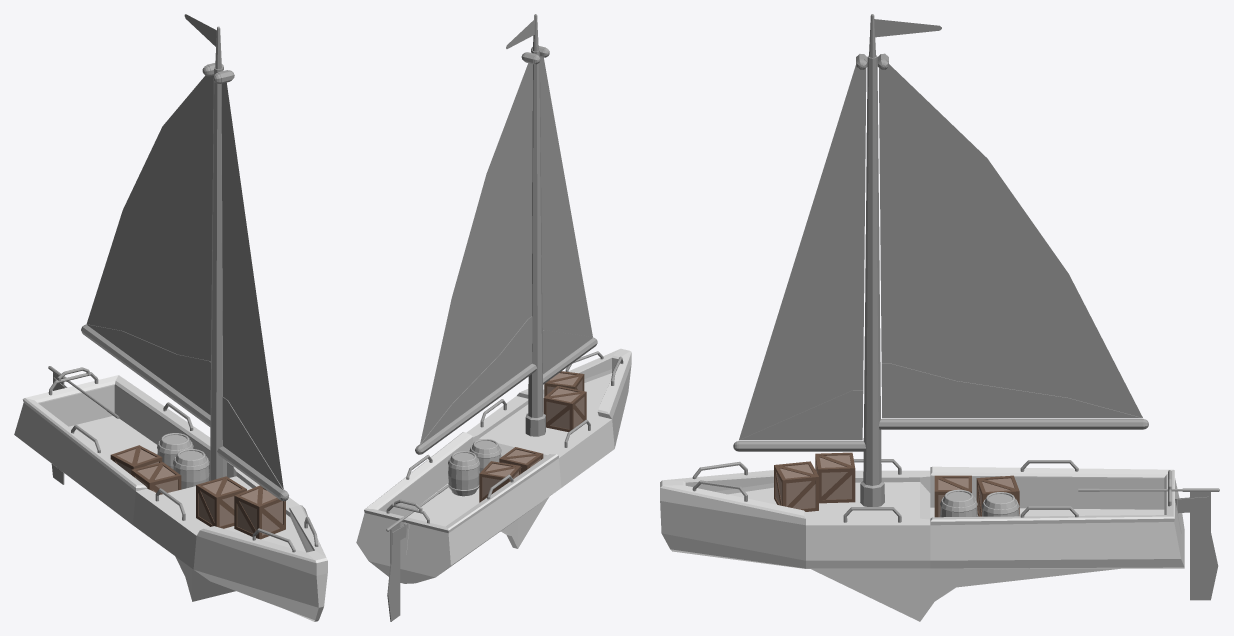
Rendered from Barco.fbx.
3 views of the same model, side by side, from view 1: azimuth 30°, elevation 25°; view 2: azimuth 150°, elevation 25°; view 3: azimuth 270°, elevation 25° (orthographic). The views are drawn at different scales.
Visible parts, largest first — view 1: Corpo Barco, Vela Grande, Vela Pequena, Mastro, Vela Grande Recolhida, Caixa.003, Vela Pequena Recolhida, Caixa.002, Mastro Vela Grande, Caixa, Barril, Mastro Vela Pequena (+2 smaller); view 2: Corpo Barco, Vela Grande, Vela Pequena, Mastro, Vela Grande Recolhida, Caixa.002, Mastro Vela Grande, Vela Pequena Recolhida, Leme, Barril.001, Caixa.001, Mastro Vela Pequena (+3 smaller); view 3: Corpo Barco, Vela Grande, Vela Pequena, Vela Grande Recolhida, Mastro, Vela Pequena Recolhida, Mastro Vela Grande, Leme, Caixa.003, Caixa.002, Mastro Vela Pequena, Caixa.001 (+2 smaller).
Boxes of the visible parts, left/top/right/bottom form: Corpo Barco: left=14, top=375, right=327, bottom=621; Vela Grande: left=86, top=75, right=213, bottom=361; Vela Pequena: left=221, top=81, right=283, bottom=489; Mastro: left=210, top=28, right=226, bottom=480; Vela Grande Recolhida: left=86, top=324, right=210, bottom=414; Caixa.003: left=234, top=485, right=285, bottom=539; Vela Pequena Recolhida: left=222, top=397, right=283, bottom=489; Caixa.002: left=196, top=476, right=246, bottom=528; Mastro Vela Grande: left=82, top=325, right=210, bottom=426; Caixa: left=131, top=462, right=181, bottom=492; Barril: left=173, top=449, right=209, bottom=489; Mastro Vela Pequena: left=217, top=446, right=286, bottom=499; Corpo Barco: left=356, top=348, right=631, bottom=583; Vela Grande: left=420, top=62, right=532, bottom=444; Vela Pequena: left=540, top=57, right=592, bottom=336; Mastro: left=525, top=15, right=545, bottom=436; Vela Grande Recolhida: left=419, top=316, right=532, bottom=444; Caixa.002: left=543, top=386, right=586, bottom=431; Mastro Vela Grande: left=417, top=363, right=536, bottom=453; Vela Pequena Recolhida: left=542, top=330, right=592, bottom=373; Leme: left=387, top=523, right=400, bottom=621; Barril.001: left=448, top=451, right=479, bottom=496; Caixa.001: left=479, top=461, right=520, bottom=502; Mastro Vela Pequena: left=543, top=338, right=596, bottom=384; Corpo Barco: left=660, top=466, right=1184, bottom=621; Vela Grande: left=879, top=64, right=1142, bottom=417; Vela Pequena: left=739, top=65, right=866, bottom=439; Vela Grande Recolhida: left=881, top=363, right=1142, bottom=418; Mastro: left=860, top=16, right=884, bottom=506; Vela Pequena Recolhida: left=739, top=390, right=863, bottom=440; Mastro Vela Grande: left=879, top=419, right=1143, bottom=429; Leme: left=1190, top=492, right=1218, bottom=600; Caixa.003: left=774, top=461, right=818, bottom=511; Caixa.002: left=815, top=452, right=855, bottom=503; Mastro Vela Pequena: left=738, top=441, right=865, bottom=451; Caixa.001: left=976, top=475, right=1019, bottom=516.
Size of the model in its own units: 3.63 by 17.85 by 14.94.
